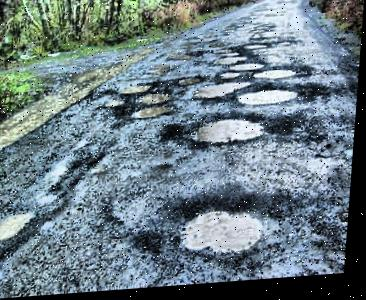pothole: (171, 197, 270, 263), (192, 118, 269, 149), (236, 91, 303, 110), (0, 208, 38, 241), (195, 83, 250, 104), (130, 105, 176, 122), (252, 70, 298, 85), (228, 64, 267, 76), (139, 94, 172, 107), (119, 84, 153, 96), (213, 58, 249, 68), (166, 54, 197, 65), (220, 72, 243, 85), (177, 78, 205, 88), (104, 98, 128, 109), (244, 45, 268, 55)
